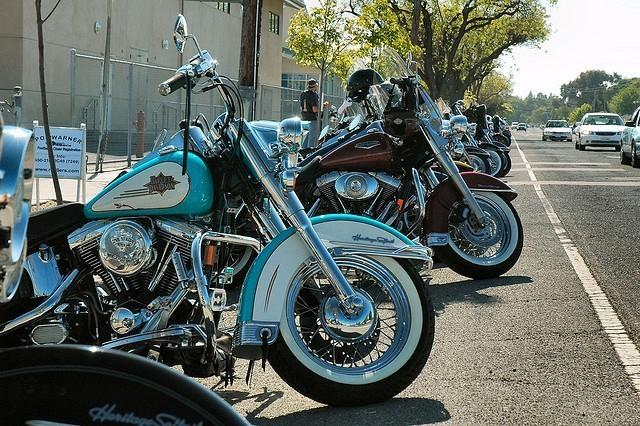car: (572, 113, 626, 150), (619, 107, 640, 170), (542, 120, 573, 141), (518, 123, 526, 132), (571, 122, 580, 130), (511, 121, 518, 131)
motorcycle: (1, 49, 445, 407), (304, 52, 522, 278), (0, 343, 258, 426), (454, 103, 506, 177), (465, 102, 511, 176), (440, 115, 490, 176), (486, 114, 511, 147)
